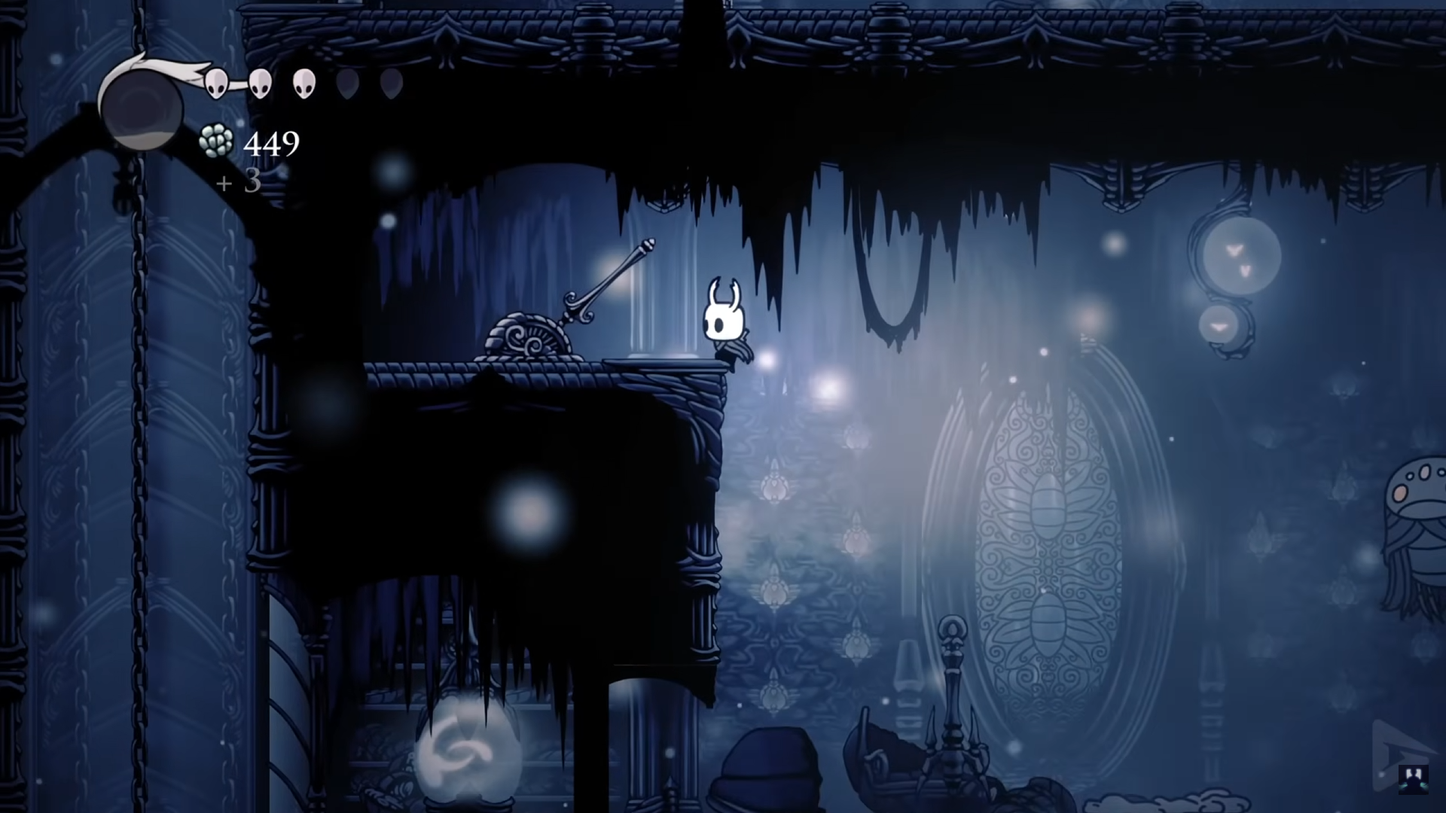HK: (697, 273, 758, 370)
